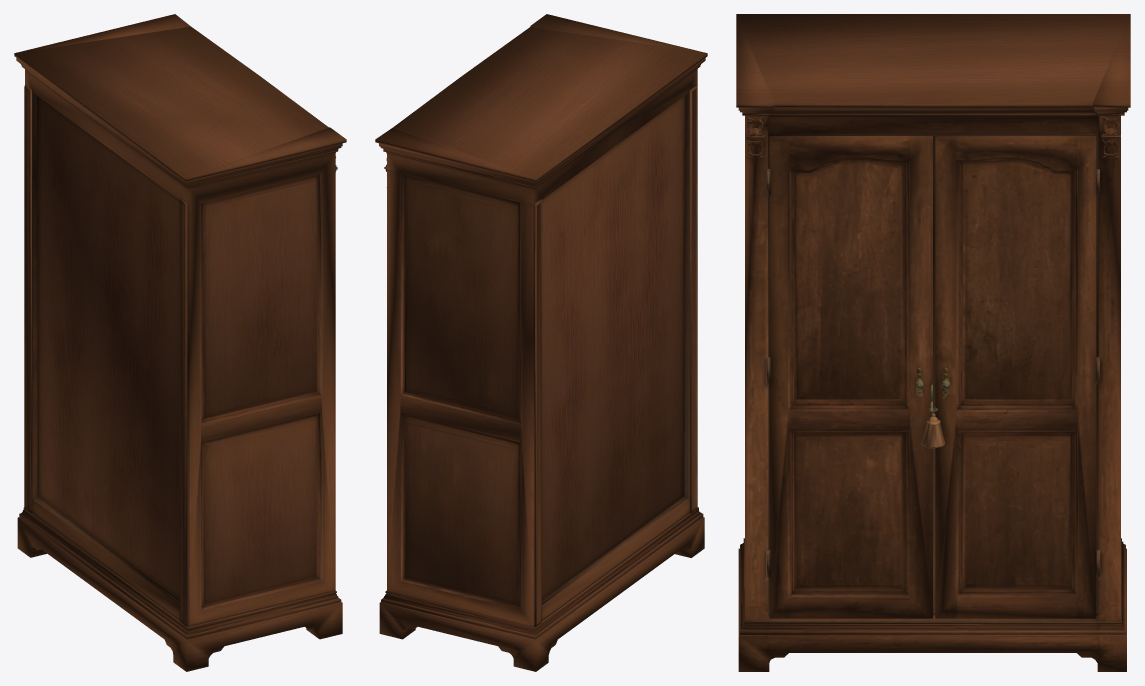
3 views of the same model, side by side, from view 1: azimuth 30°, elevation 25°; view 2: azimuth 150°, elevation 25°; view 3: azimuth 270°, elevation 25° (orthographic). The views are drawn at different scales.
Visible parts, largest first — view 1: tripo_node_eed055c0-b67a-4037-92e0-e533d21e3b75; view 2: tripo_node_eed055c0-b67a-4037-92e0-e533d21e3b75; view 3: tripo_node_eed055c0-b67a-4037-92e0-e533d21e3b75.
Part boxes in pixels (<box>): tripo_node_eed055c0-b67a-4037-92e0-e533d21e3b75: <box>14,14,346,671</box>; tripo_node_eed055c0-b67a-4037-92e0-e533d21e3b75: <box>375,14,707,671</box>; tripo_node_eed055c0-b67a-4037-92e0-e533d21e3b75: <box>736,14,1130,671</box>.
Bounding box in the file's own units: 0.3535 × 0.998 × 0.627.
1 material, 1 textured.
